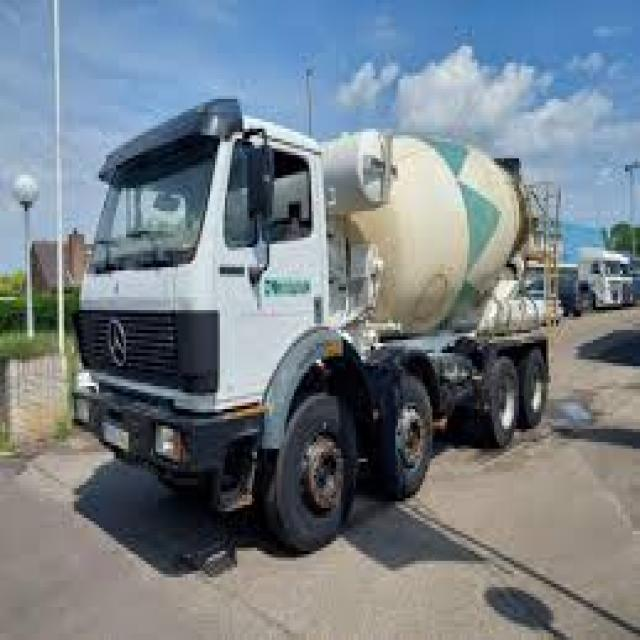Mixer Truck: (68, 91, 567, 554)
